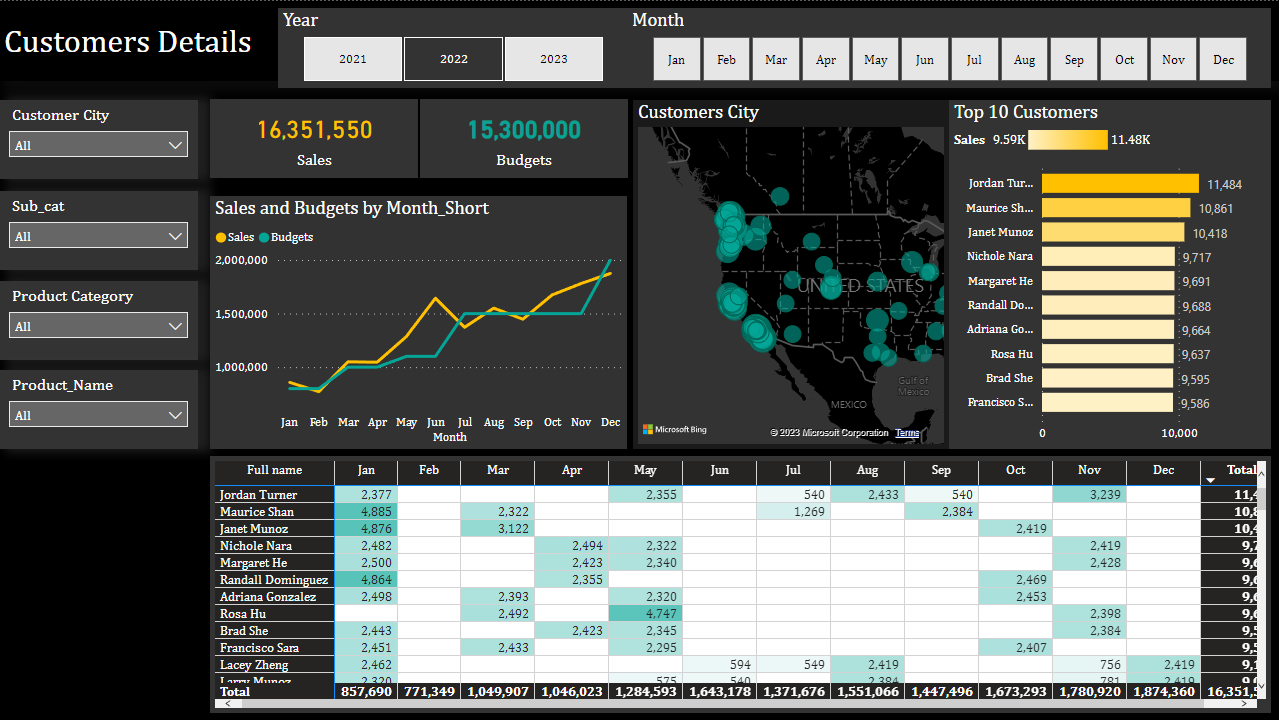

This screenshot's page, from the dashboard's own definition file:
{"tool":"powerbi","page":{"name":"Customers Details","canvas":[1280,720],"ordinal":1},"visuals":[{"type":"textbox","box":[0,0,1280,80],"z":0},{"type":"slicer","fields":{"Values":["DIM_Customers.Customer City"]},"box":[0,98.9,198.9,78.9],"z":1000},{"type":"slicer","fields":{"Values":["DIM_Product.Sub_cat"]},"box":[0,190,198.9,78.9],"z":2000},{"type":"slicer","fields":{"Values":["DIM_Product.Product Category"]},"box":[0,280,198.9,78.9],"z":3000},{"type":"slicer","fields":{"Values":["DIM_Product.Product_Name"]},"box":[0,368.9,198.9,78.9],"z":4000},{"type":"slicer","title":"Month","fields":{"Values":["DIM_Calendar_v2.Month_Short"]},"box":[628,7,644,80],"z":5000},{"type":"slicer","title":"Year","fields":{"Values":["DIM_Calendar_v2.Year"]},"box":[279.1,7.3,349.1,80],"z":6000},{"type":"lineChart","fields":{"Y":["Measurement.Sales","Measurement.Budgets"],"Category":["DIM_Calendar_v2.Month_Short"]},"box":[211.3,195.2,416.4,252.5],"z":7000},{"type":"barChart","title":"Top 10 Customers","fields":{"Y":["Measurement.Sales"],"Category":["DIM_Customers.Full name"]},"box":[950,99.1,321.8,349.1],"z":8000},{"type":"map","title":"Customers City","fields":{"Category":["DIM_Customers.Customer City"],"Size":["Fact_internet_Sales.Sales_Total"]},"box":[633.6,99.1,316.4,349.1],"z":9000},{"type":"card","fields":{"Values":["Measurement.Sales"]},"box":[211.2,98.1,208.1,78.8],"z":10000},{"type":"card","fields":{"Values":["Measurement.Budgets"]},"box":[420.6,98.1,208.1,78.8],"z":11000},{"type":"pivotTable","fields":{"Rows":["DIM_Customers.Full name"],"Columns":["DIM_Calendar_v2.Month_Short"],"Values":["Measurement.Sales"]},"box":[210.9,455.5,1060.9,256.4],"z":12000}]}

Visuals, with their boxes in screenshot pixels (x1, y1, x2, y2), scaled from the page's 1280x720 canvas onto the 1279x720 screenshot:
textbox: region(0, 0, 1278, 80)
slicer - DIM_Customers.Customer City: region(0, 99, 199, 178)
slicer - DIM_Product.Sub_cat: region(0, 190, 199, 269)
slicer - DIM_Product.Product Category: region(0, 280, 199, 359)
slicer - DIM_Product.Product_Name: region(0, 369, 199, 448)
"Month" slicer: region(628, 7, 1271, 87)
"Year" slicer: region(279, 7, 628, 87)
lineChart - Measurement.Sales x Measurement.Budgets: region(211, 195, 627, 448)
"Top 10 Customers" barChart: region(949, 99, 1271, 448)
"Customers City" map: region(633, 99, 949, 448)
card - Measurement.Sales: region(211, 98, 419, 177)
card - Measurement.Budgets: region(420, 98, 628, 177)
pivotTable - DIM_Customers.Full name x DIM_Calendar_v2.Month_Short: region(211, 456, 1271, 712)
